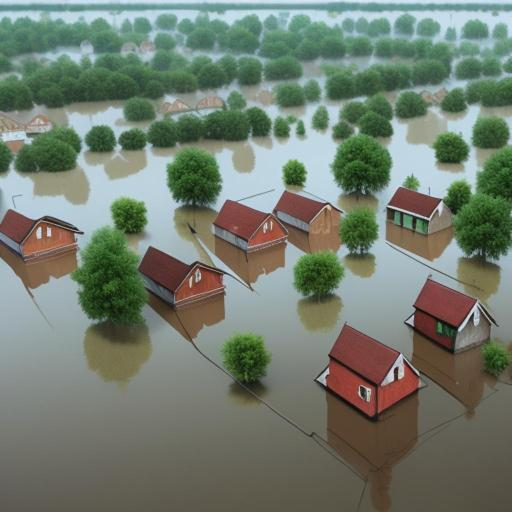flood: (152, 164, 512, 512), (0, 291, 512, 512), (0, 104, 456, 288), (163, 56, 393, 124), (393, 104, 512, 166), (0, 245, 87, 329), (433, 104, 512, 196), (208, 8, 407, 27), (408, 10, 512, 41), (48, 104, 148, 136), (48, 8, 199, 26), (412, 68, 474, 93), (12, 46, 103, 62), (1, 105, 67, 125), (173, 46, 224, 60), (382, 88, 410, 105), (0, 10, 41, 20), (480, 70, 512, 79), (134, 50, 156, 61), (480, 40, 496, 49), (352, 96, 368, 101)
house: (322, 320, 416, 422), (412, 270, 482, 360), (140, 240, 223, 314), (216, 196, 288, 272), (0, 202, 76, 268), (278, 185, 340, 250), (391, 185, 449, 239)
